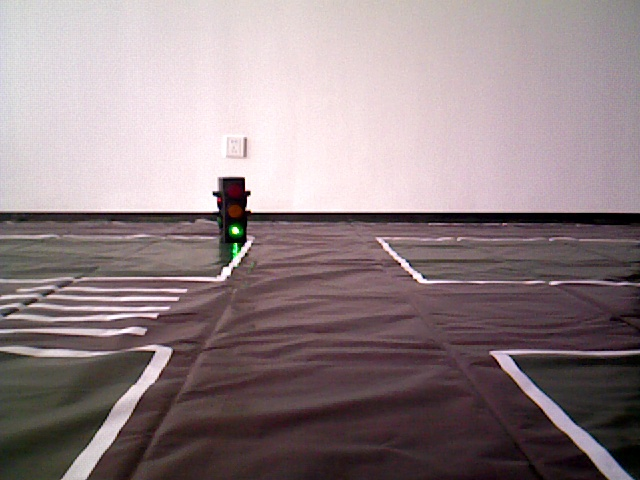green: (220, 182, 246, 240)
